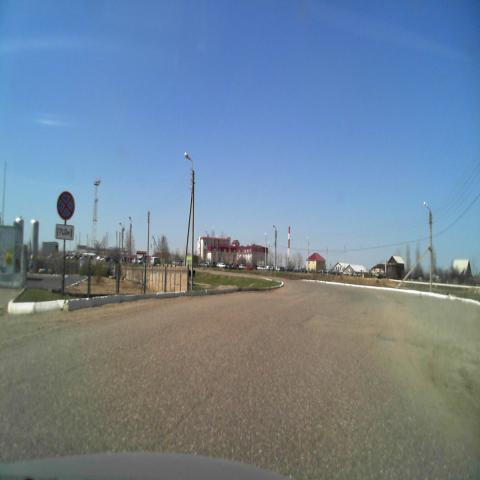3_27: (56, 190, 74, 220)
